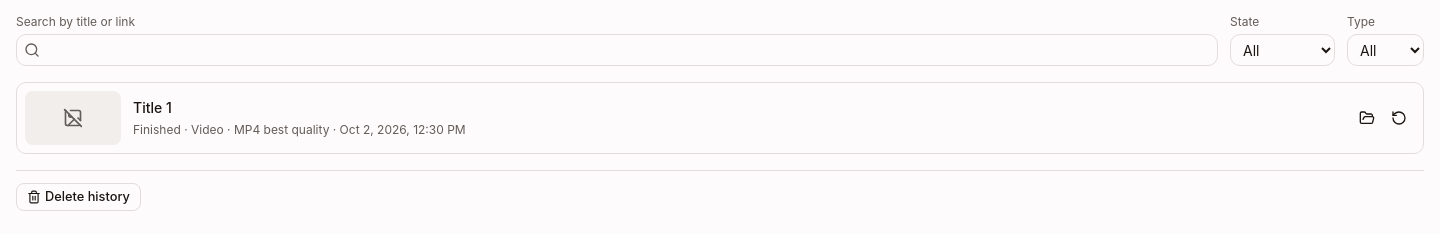
Test: the history › says when the file is gone
This screenshot has width=1440, height=234.
Click the button named "Open folder": [1367, 118] box 1351,102 -> 1383,134
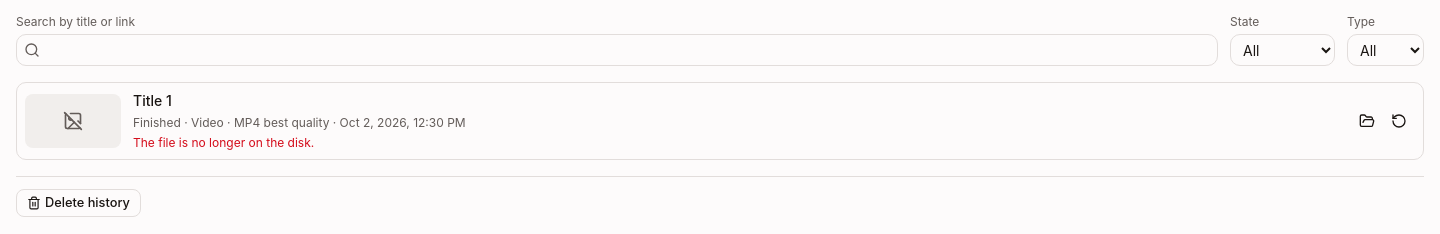
Now the message reads "The file is no longer on the disk.", box 133,135 -> 314,150
